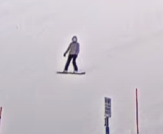snowboarder: (56, 35, 86, 74)
